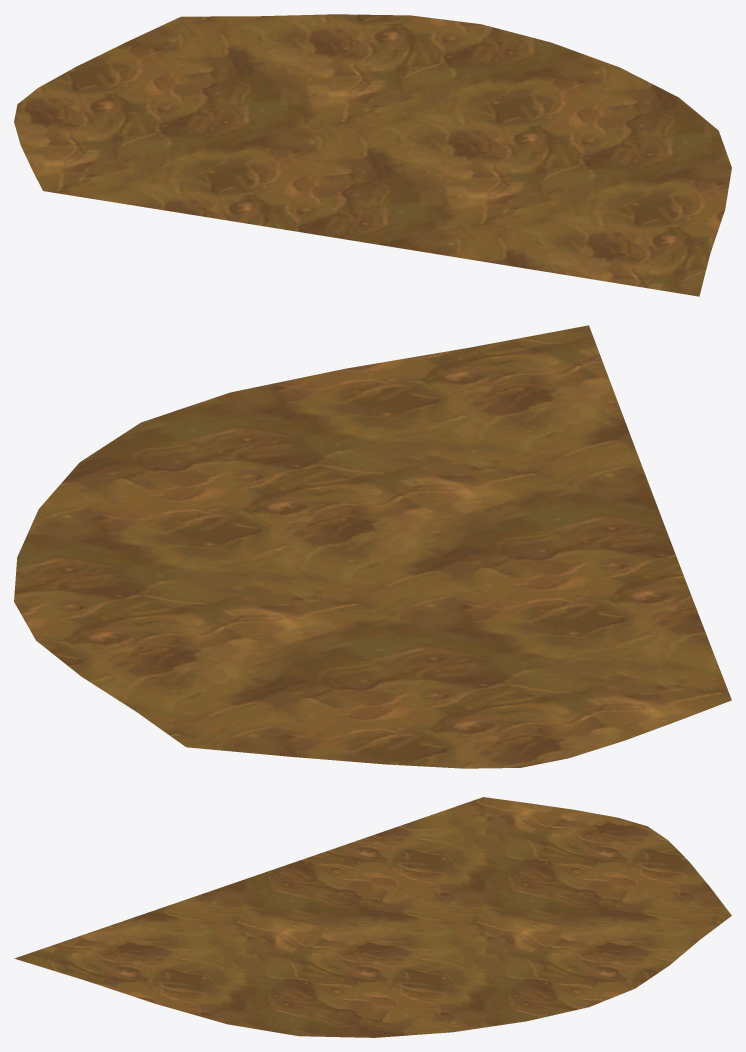
File: HTOWN01_GARDEN01.fbx
3 views of the same model, one above another, from view 1: azimuth 30°, elevation 25°; view 2: azimuth 150°, elevation 25°; view 3: azimuth 270°, elevation 25° (orthographic). The views are drawn at different scales.
Visible parts, largest first — view 1: HTOWN01_GARDEN01; view 2: HTOWN01_GARDEN01; view 3: HTOWN01_GARDEN01.
Part boxes in pixels (<box>): HTOWN01_GARDEN01: <box>14,14,731,296</box>; HTOWN01_GARDEN01: <box>14,325,731,768</box>; HTOWN01_GARDEN01: <box>14,797,731,1037</box>.
Size of the model in its own units: 74608 by 0.0172 by 93976.
1 material, 1 textured.
